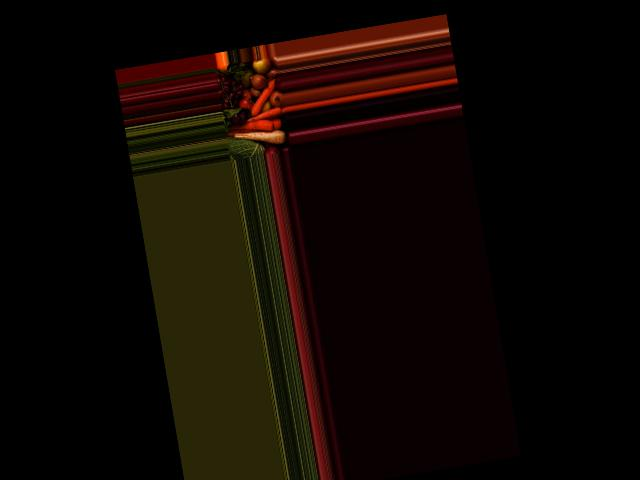carrot: (230, 118, 275, 133)
